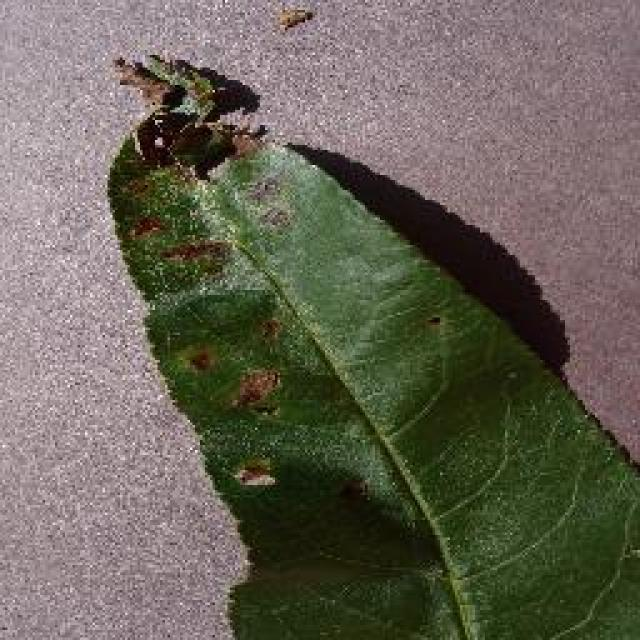Peach_Bacterial_Spot: (103, 65, 395, 500)
